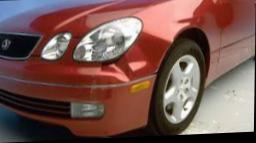Fender: (85, 35, 175, 86)
